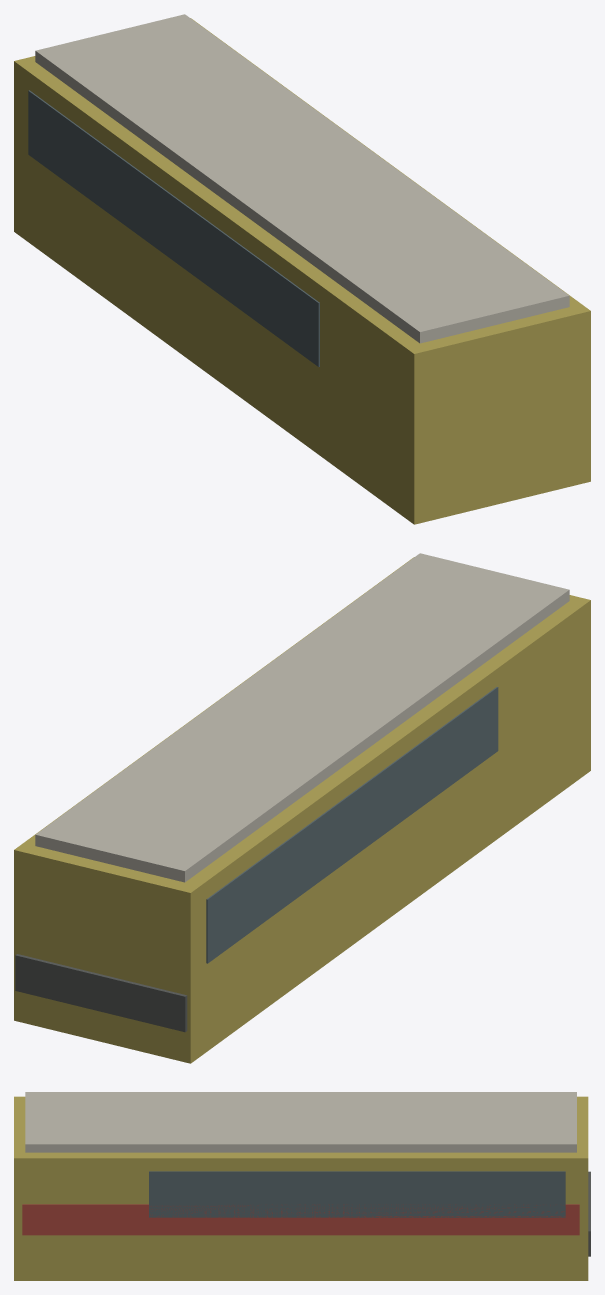
Rendered from v_liaz.glb.
3 renders of one model, top to bottom at view 1: azimuth 30°, elevation 25°; view 2: azimuth 150°, elevation 25°; view 3: azimuth 270°, elevation 25°, orthographic. The views are drawn at different scales.
Parts seen in each view (by area): view 1: body; view 2: body; view 3: body.
Part boxes in pixels (bbox=[...]): body: bbox=[14, 14, 590, 524]; body: bbox=[14, 553, 590, 1063]; body: bbox=[14, 1092, 590, 1280].
Bounding box in the file's own units: 2.64 × 2.58 × 10.25.
